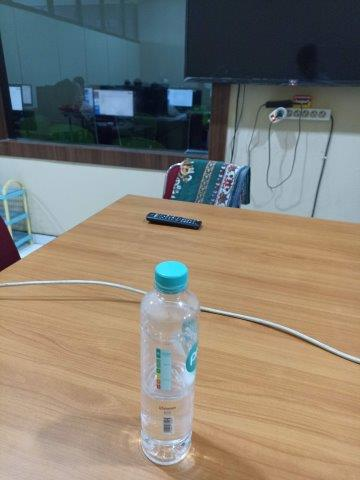botolplastik: (142, 260, 198, 466)
